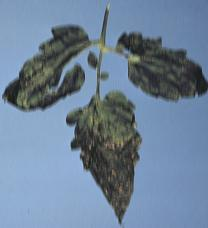Tomato Septoria leaf spot: (60, 88, 144, 223), (5, 20, 96, 112), (110, 27, 207, 106)
